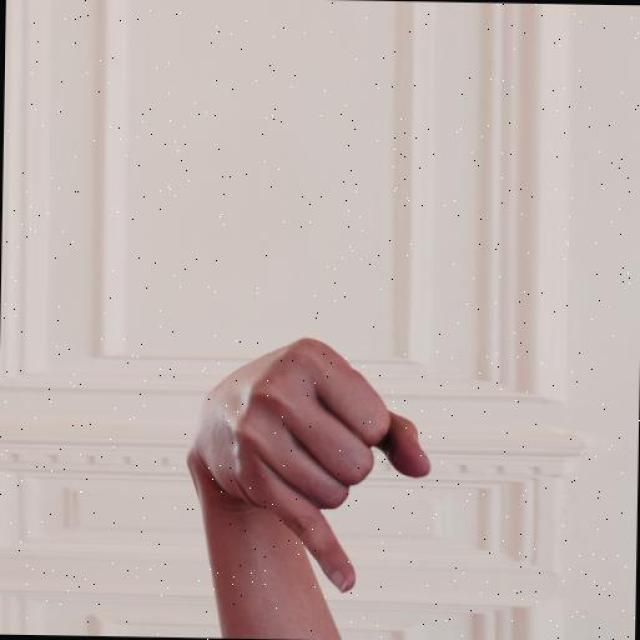J: (180, 333, 435, 596)
